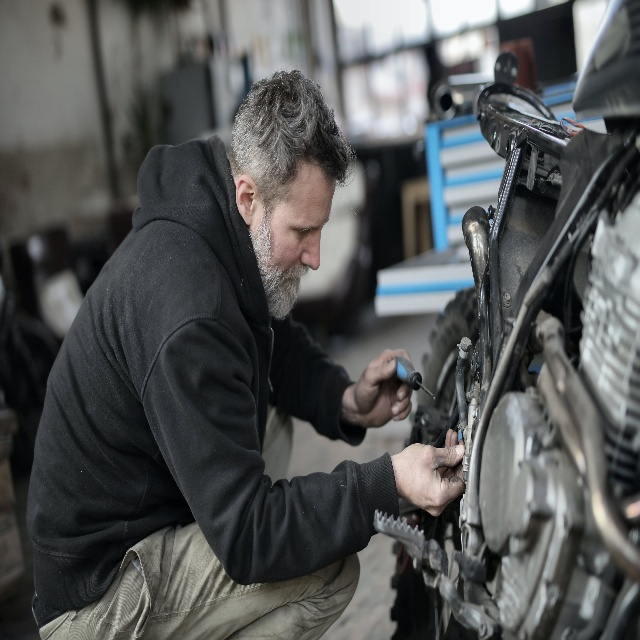Sin_guantes: (391, 429, 465, 518), (355, 347, 413, 429)
